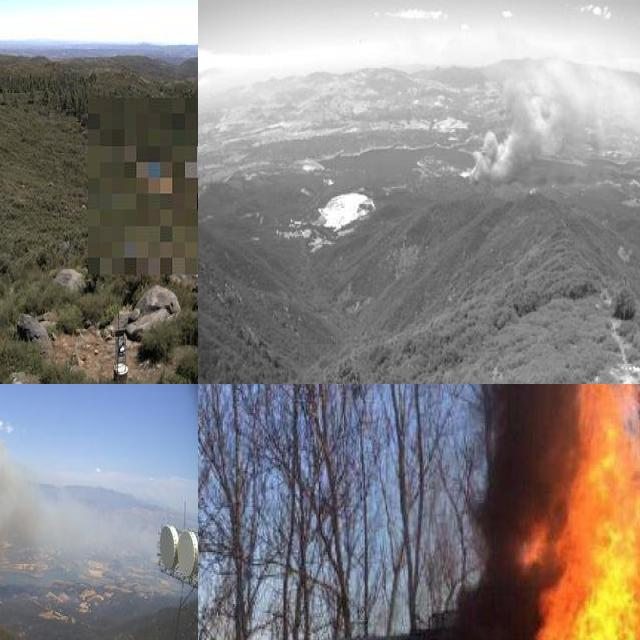fire: (475, 384, 640, 640)
smoke: (461, 384, 582, 640), (452, 38, 640, 182), (0, 433, 104, 601)
